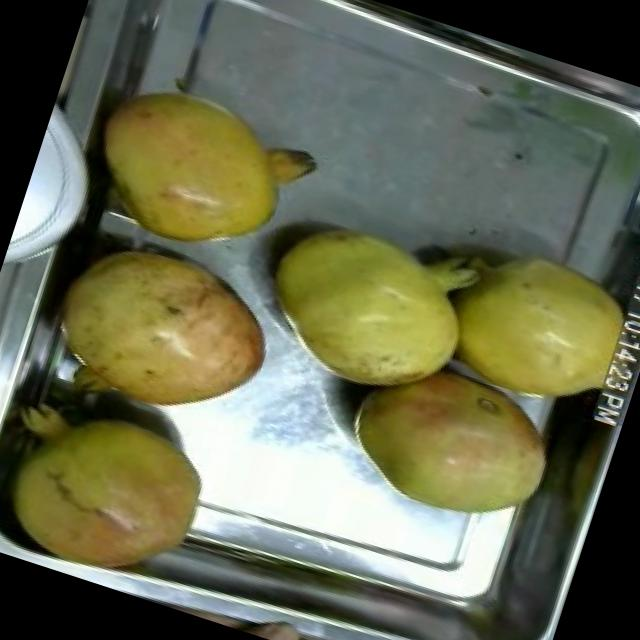fruit: (20, 208, 304, 457), (60, 44, 336, 294), (234, 194, 500, 426), (0, 382, 240, 607), (324, 337, 574, 548), (426, 225, 640, 431), (228, 602, 325, 640)
